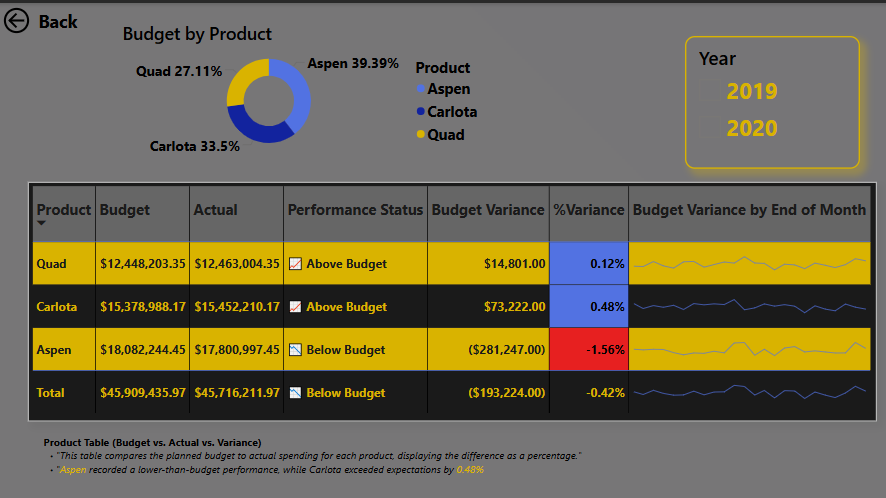

Layout of this report page (visuals, bound fields, positions):
{"tool":"powerbi","page":{"name":"Product Performance","canvas":[1280,720],"ordinal":1},"visuals":[{"type":"tableEx","fields":{"Values":["dProduct.Product","_Measures.Budget","_Measures.Actual","_Measures.Performance Status","_Measures.Variance","_Measures.%Variance","SparklineData(_Measures.Variance_[dCalender.End of Month])"]},"box":[40.5,258.8,1227.5,345.5],"z":0},{"type":"donutChart","fields":{"Category":["dProduct.Product"],"Y":["_Measures.Budget"]},"box":[172,26,539.3,198.1],"z":1000},{"type":"slicer","fields":{"Values":["dCalender.Year"]},"box":[990.4,47.7,253,192.3],"z":2000},{"type":"textbox","box":[57.8,618.8,1088.7,101.2],"z":3000},{"type":"actionButton","box":[0,1.4,115.7,47.7],"z":4000}]}

Visuals, with their boxes in screenshot pixels (x1, y1, x2, y2), scaled from the page's 1280x720 canvas onto the 886x498 screenshot:
tableEx - dProduct.Product x _Measures.Budget: bbox(28, 179, 878, 418)
donutChart - dProduct.Product x _Measures.Budget: bbox(119, 18, 492, 155)
slicer - dCalender.Year: bbox(686, 33, 861, 166)
textbox: bbox(40, 428, 794, 497)
actionButton: bbox(0, 1, 80, 34)
